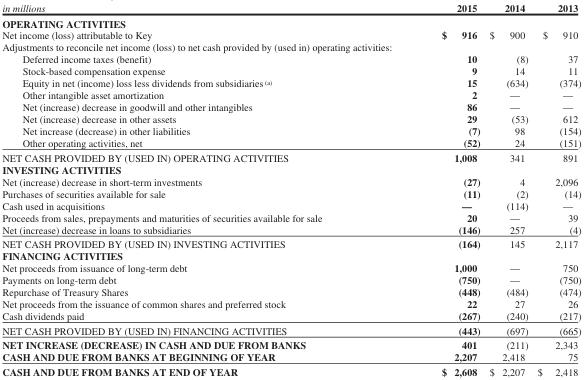table: (1, 1, 580, 377)
table column: (1, 1, 381, 377), (381, 1, 484, 377), (484, 1, 532, 377), (532, 1, 580, 377)
table column header: (1, 1, 580, 15)
table projected row header: (1, 15, 580, 28), (1, 163, 580, 175), (1, 249, 580, 261), (1, 41, 580, 52)
table row: (1, 1, 580, 15), (1, 136, 580, 150), (1, 309, 580, 323), (1, 323, 580, 337), (1, 350, 580, 364), (1, 15, 580, 28), (1, 28, 580, 41), (1, 150, 580, 163), (1, 223, 580, 236), (1, 236, 580, 249), (1, 337, 580, 350), (1, 364, 580, 377), (1, 52, 580, 64), (1, 64, 580, 76), (1, 76, 580, 88), (1, 88, 580, 100), (1, 100, 580, 112), (1, 112, 580, 124), (1, 124, 580, 136), (1, 163, 580, 175), (1, 175, 580, 187), (1, 187, 580, 199), (1, 199, 580, 211), (1, 211, 580, 223), (1, 249, 580, 261), (1, 261, 580, 273), (1, 273, 580, 285), (1, 285, 580, 297), (1, 297, 580, 309), (1, 41, 580, 52)
